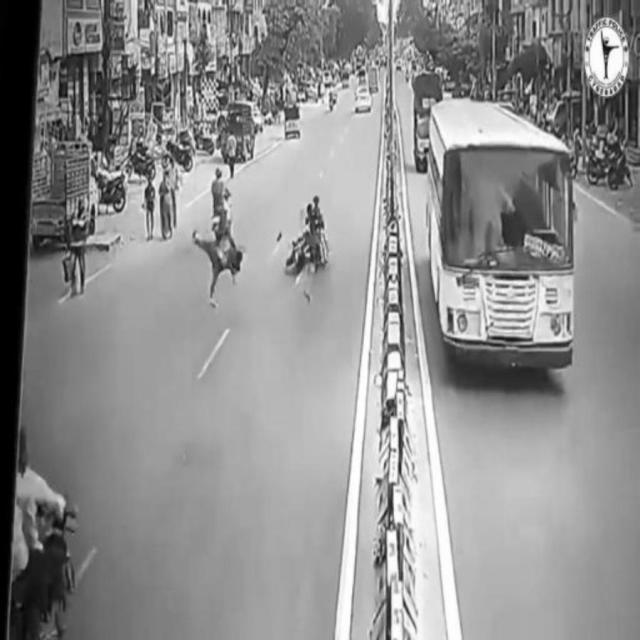person: (193, 225, 249, 311)
vehicle: (430, 104, 574, 372), (285, 204, 329, 277), (205, 171, 242, 244)
